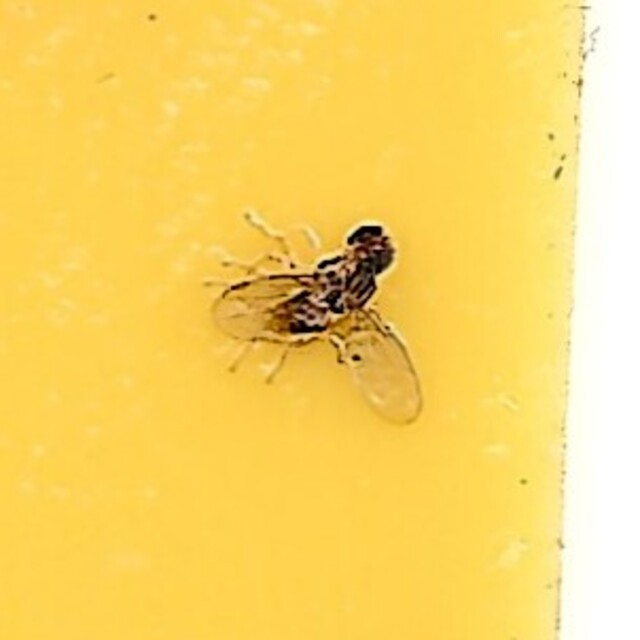Brachycera: (212, 213, 428, 427)
